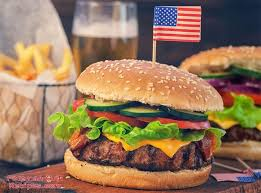hamburger: (59, 56, 225, 190)
